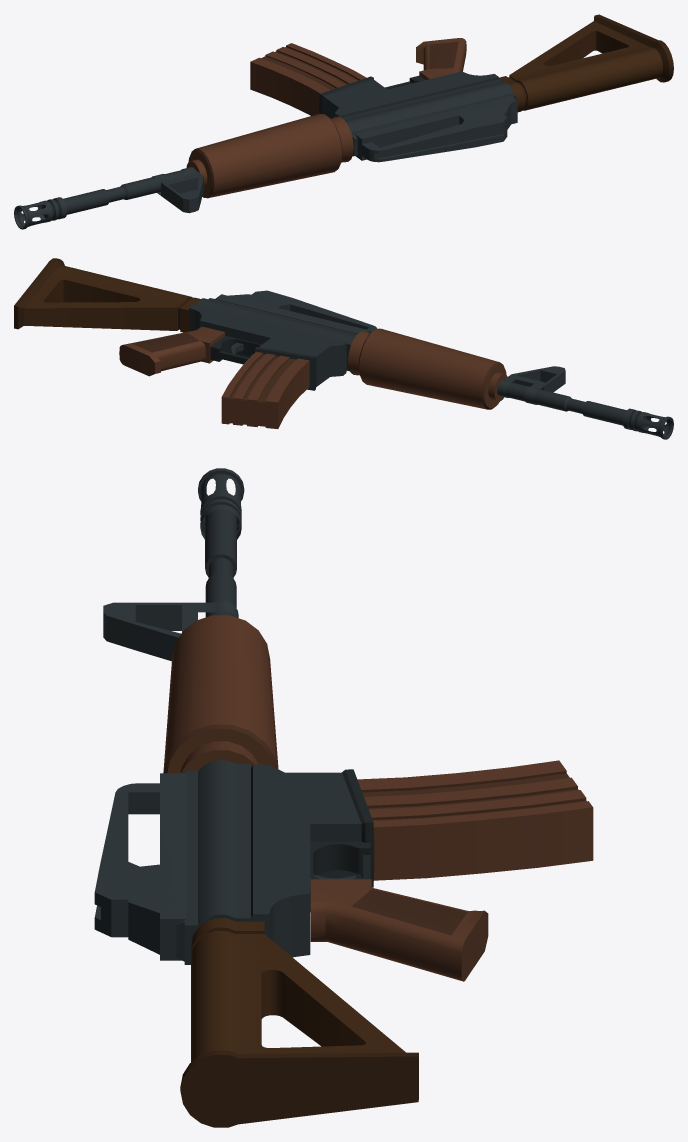
File: robotmaingun4.fbx
3 views of the same model, one above another, from view 1: azimuth 30°, elevation 25°; view 2: azimuth 150°, elevation 25°; view 3: azimuth 270°, elevation 25° (orthographic). The views are drawn at different scales.
Visible parts, largest first — view 1: MG5; view 2: MG5; view 3: MG5.
Boxes of the visible parts, <box> form: MG5: <box>14,14,673,229</box>; MG5: <box>14,258,673,439</box>; MG5: <box>94,468,593,1127</box>.
Bounding box in the file's own units: 4.15 × 0.3328 × 1.45.
